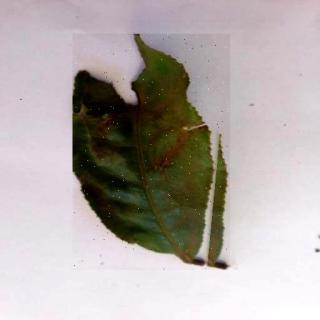Algal Leaf: (73, 35, 231, 271)
